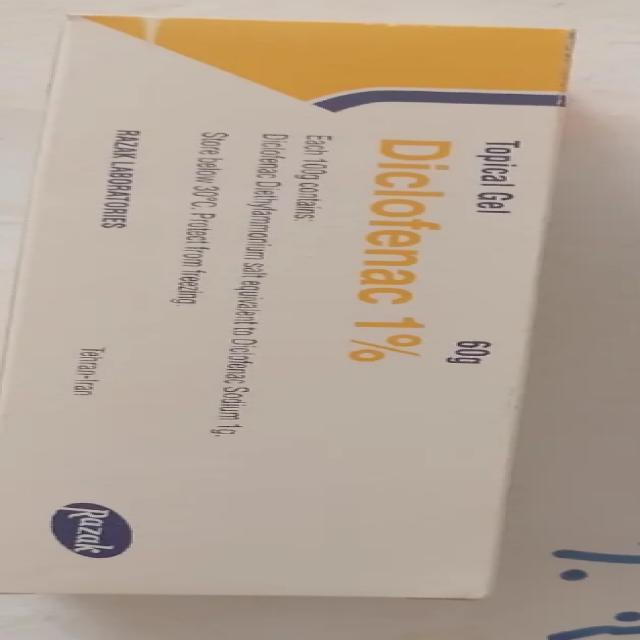drug-name: (344, 132, 461, 374)
